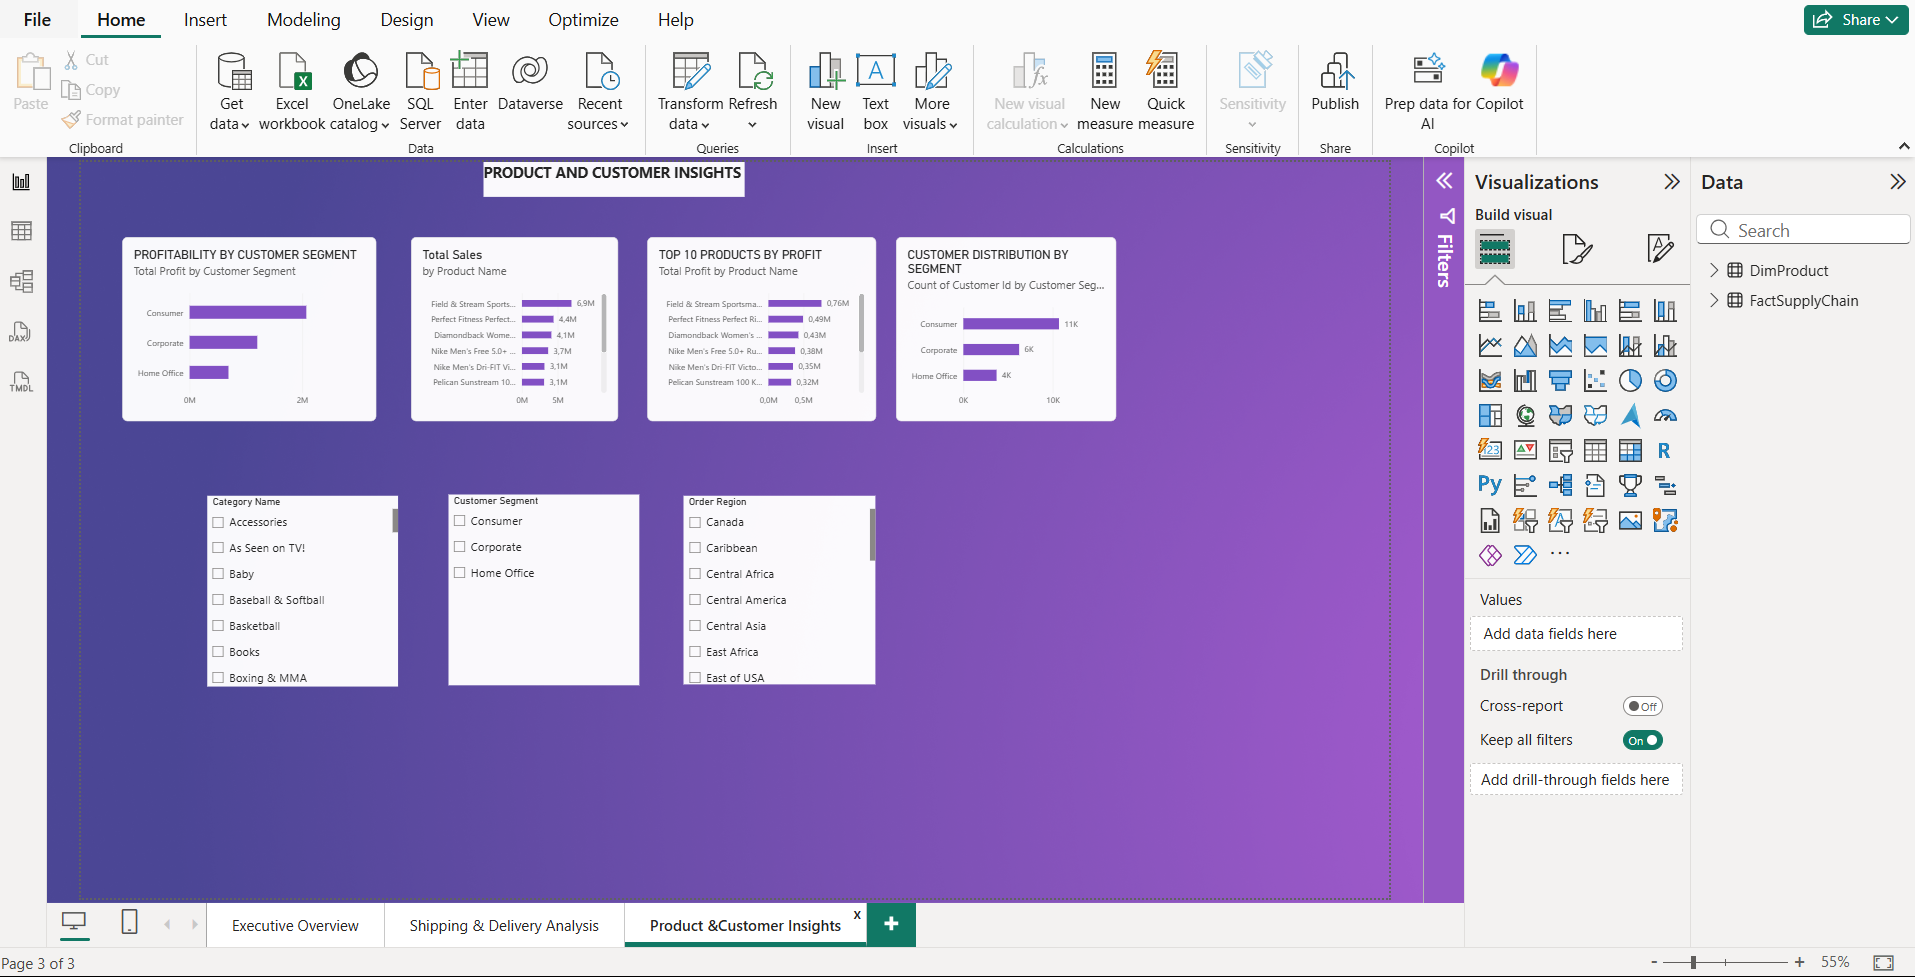

The dashboard page shown, as its layout file describes it:
{"tool":"powerbi","page":{"name":"Product &Customer Insights","canvas":[1920,1080],"ordinal":2},"visuals":[{"type":"clusteredBarChart","title":"PROFITABILITY BY CUSTOMER SEGMENT","fields":{"Category":["FactSupplyChain.Customer Segment"],"Y":["FactSupplyChain.Total Profit"]},"box":[61.4,110,372.9,270],"z":0},{"type":"clusteredBarChart","fields":{"Category":["FactSupplyChain.Product Name"],"Y":["FactSupplyChain.Total Sales"]},"box":[484.3,110,304.3,270],"z":1000},{"type":"clusteredBarChart","title":"TOP 10 PRODUCTS BY PROFIT","fields":{"Category":["DimProduct.Product Name"],"Y":["FactSupplyChain.Total Profit"]},"box":[830,110,335.7,270],"z":2000},{"type":"slicer","fields":{"Values":["FactSupplyChain.Category Name"]},"box":[185.7,490,280,280],"z":3000},{"type":"slicer","fields":{"Values":["FactSupplyChain.Customer Segment"]},"box":[540,488.6,280,280],"z":3001},{"type":"slicer","fields":{"Values":["FactSupplyChain.Order Region"]},"box":[884.3,490,281.4,277.1],"z":3002},{"type":"clusteredBarChart","title":"CUSTOMER DISTRIBUTION BY SEGMENT","fields":{"Category":["FactSupplyChain.Customer Segment"],"Y":["Count(FactSupplyChain.Customer Id)"]},"box":[1195.7,110,322.9,270],"z":3003},{"type":"textbox","box":[591.4,0,382.9,51.4],"z":3004}]}

Visuals, with their boxes on the page's 1920x1080 design canvas (x1, y1, x2, y2). These are canvas units, not pixel positions in the 1915x977 screenshot, which may show the page scaled, cropped or inside an application window:
"PROFITABILITY BY CUSTOMER SEGMENT" clusteredBarChart: [61, 110, 434, 380]
clusteredBarChart - FactSupplyChain.Product Name x FactSupplyChain.Total Sales: [484, 110, 789, 380]
"TOP 10 PRODUCTS BY PROFIT" clusteredBarChart: [830, 110, 1166, 380]
slicer - FactSupplyChain.Category Name: [186, 490, 466, 770]
slicer - FactSupplyChain.Customer Segment: [540, 489, 820, 769]
slicer - FactSupplyChain.Order Region: [884, 490, 1166, 767]
"CUSTOMER DISTRIBUTION BY SEGMENT" clusteredBarChart: [1196, 110, 1519, 380]
textbox: [591, 0, 974, 51]
